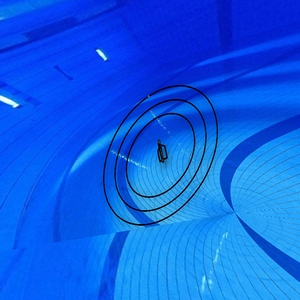circle: (102, 83, 219, 229)
submarine: (154, 137, 172, 169)
